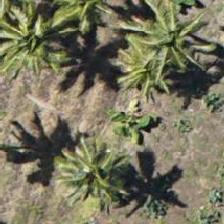coconut_tree: (50, 129, 140, 219), (108, 20, 198, 110), (126, 0, 216, 82), (0, 0, 76, 84)
